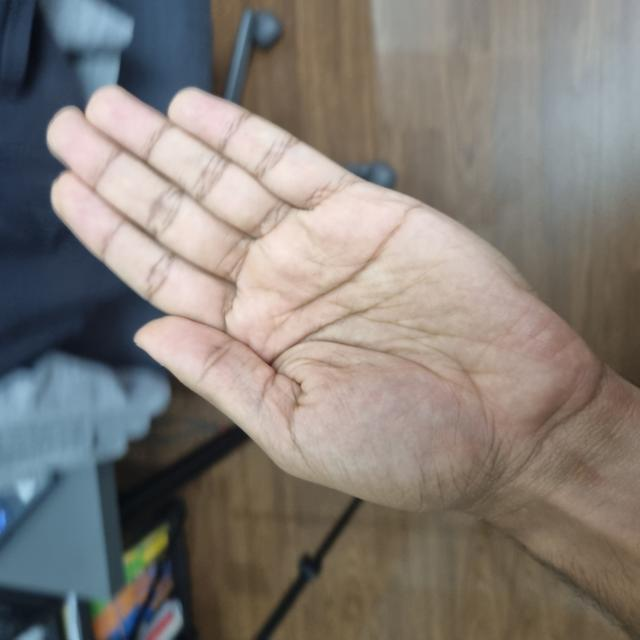Paper: (131, 48, 556, 575)
